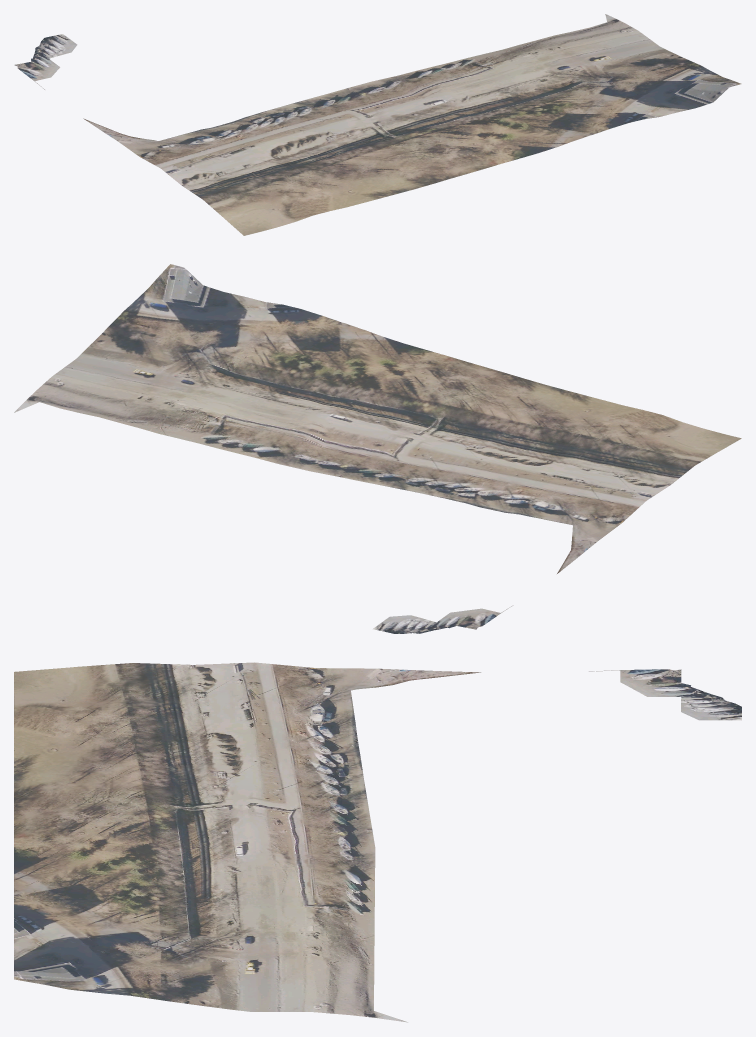
File: CM_Terrain_24487592_6822046.fbx
The picture shows the model from 3 angles, top to bottom: view 1: azimuth 30°, elevation 25°; view 2: azimuth 150°, elevation 25°; view 3: azimuth 270°, elevation 25°; orthographic projection. The views are drawn at different scales.
Parts seen in each view (by area): view 1: CM_Terrain_24487592_6822046_LOD0; view 2: CM_Terrain_24487592_6822046_LOD0; view 3: CM_Terrain_24487592_6822046_LOD0.
Boxes of the visible parts, box(x1,y1,x2,y2) form: CM_Terrain_24487592_6822046_LOD0: box(14, 14, 741, 235); CM_Terrain_24487592_6822046_LOD0: box(14, 264, 741, 633); CM_Terrain_24487592_6822046_LOD0: box(14, 662, 741, 1022).
Size of what is drawn, in the model's own units: 205 by 12.21 by 179.
